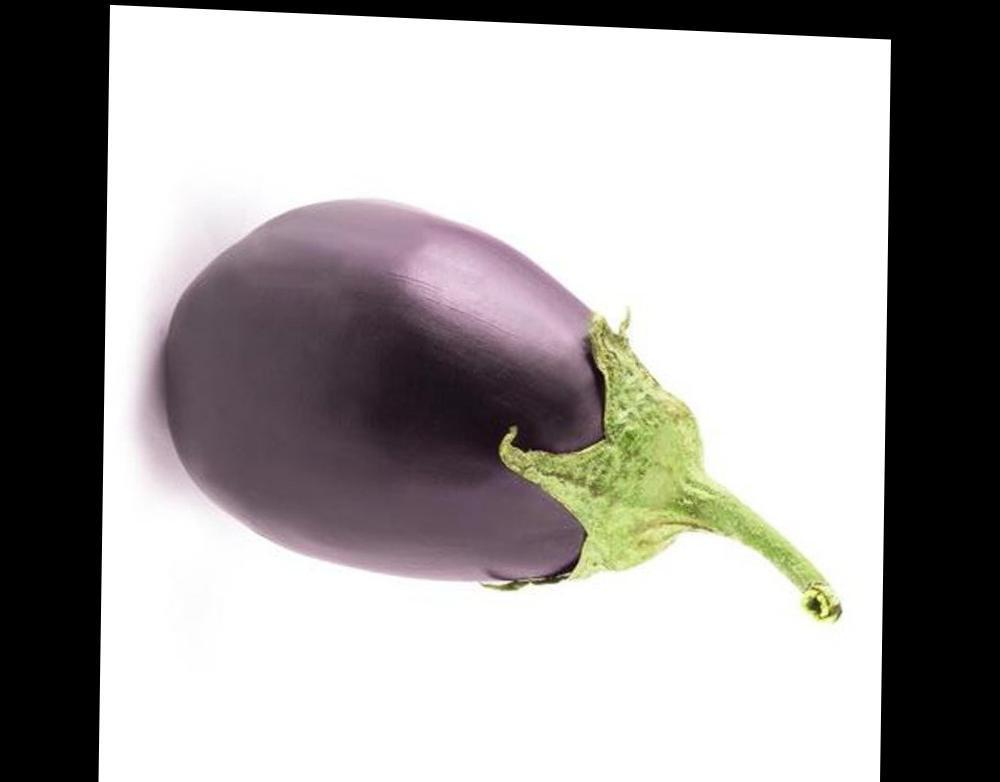eggplant: (158, 108, 810, 746)
